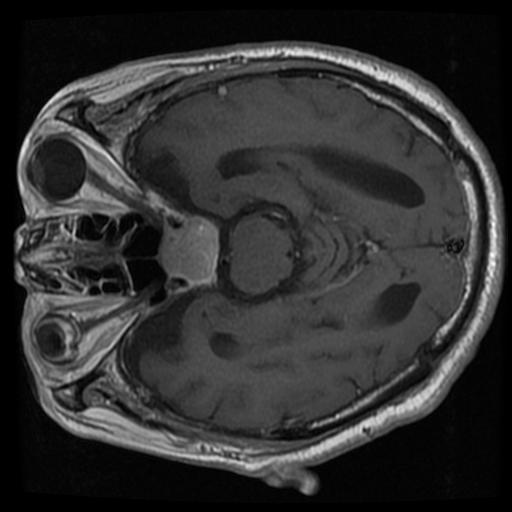pituitary tumour: (159, 222, 219, 284)
